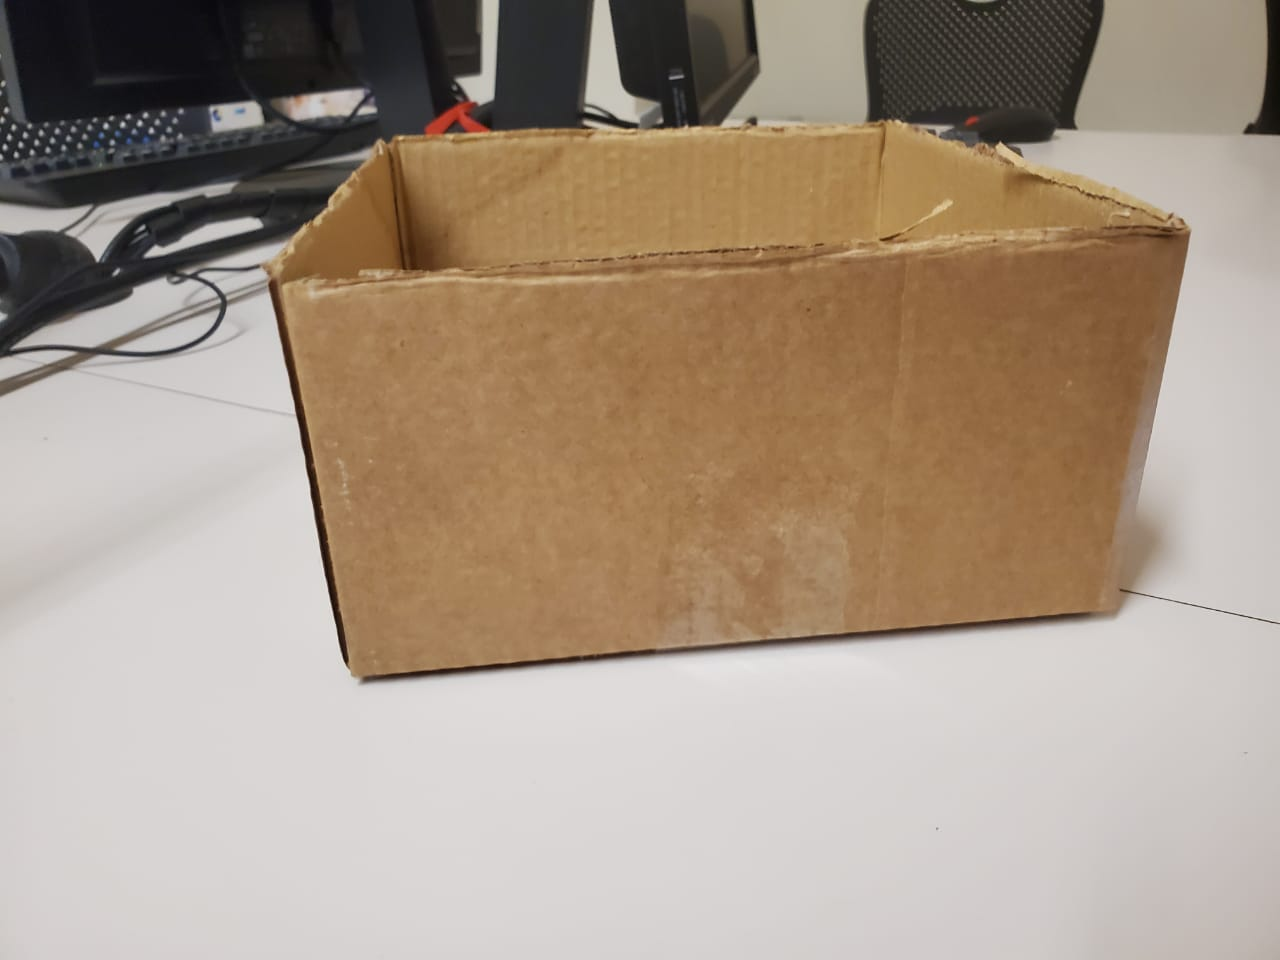CBox: (266, 130, 1186, 686)
